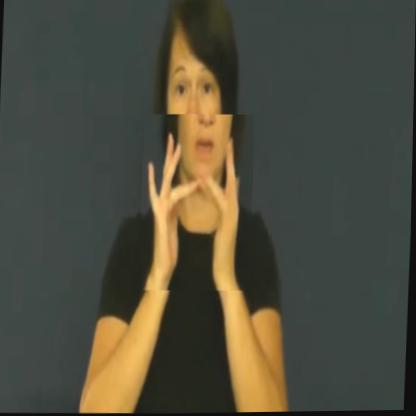Internet: (138, 114, 255, 293)
